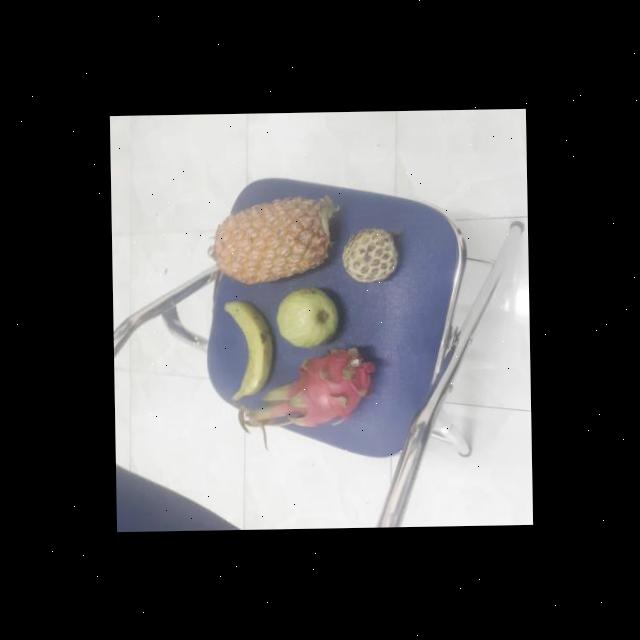Sakya fruit: (342, 222, 398, 282)
guava: (274, 283, 339, 349)
pineapple: (212, 192, 336, 286)
pitaya: (256, 343, 372, 428)
